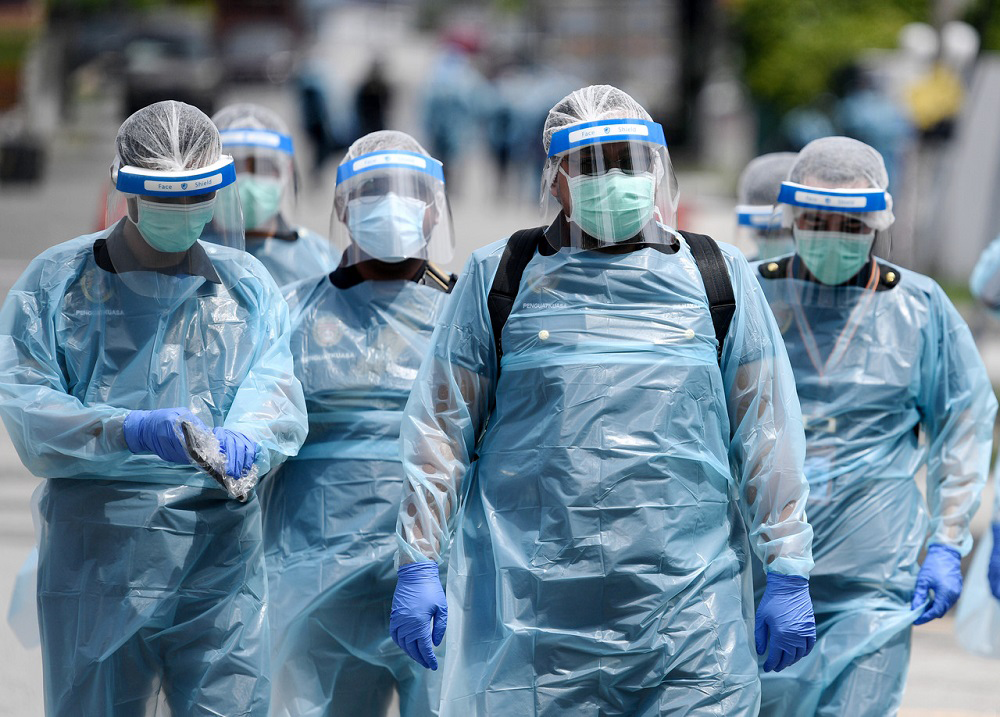Coverall: (411, 83, 802, 717), (1, 92, 305, 717), (746, 128, 997, 717), (242, 135, 490, 717)
Gloves: (384, 561, 454, 670), (754, 569, 820, 677), (124, 405, 206, 466), (914, 539, 963, 628), (215, 423, 261, 480)
with_mask: (565, 168, 664, 244), (344, 185, 435, 265), (796, 217, 874, 286), (134, 194, 216, 255)
